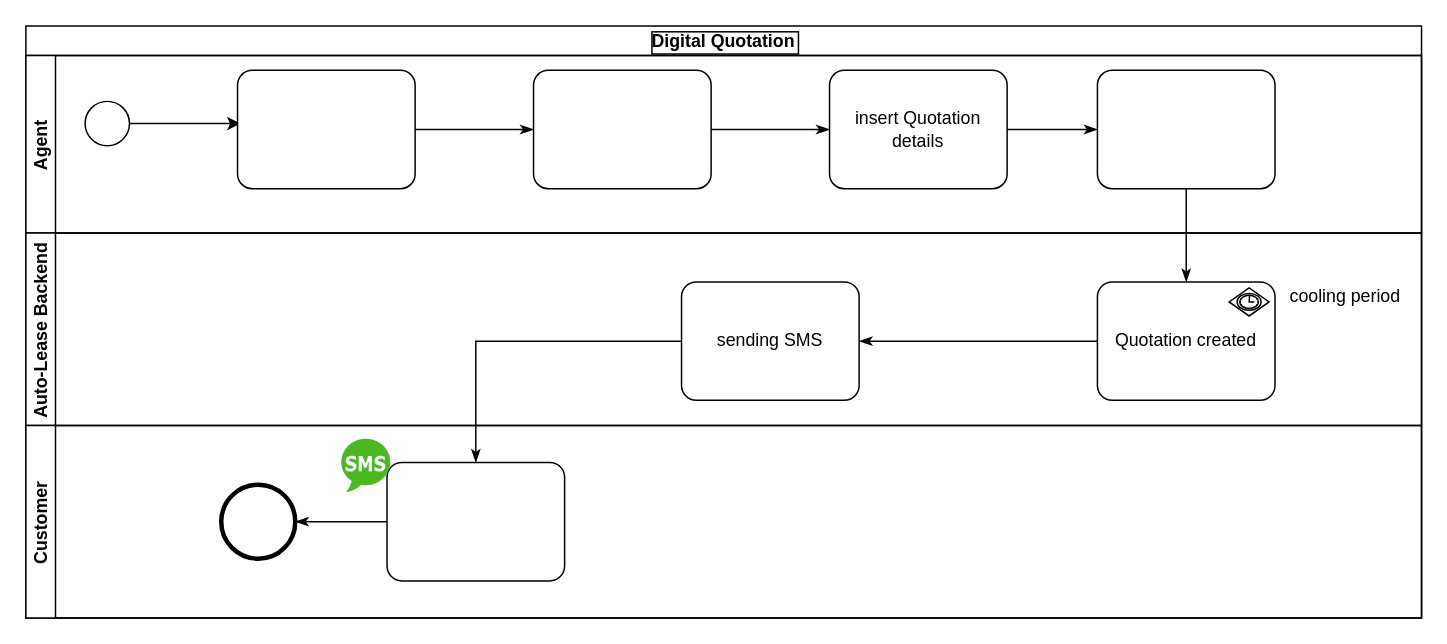
Some shapes in this 1447 by 644 pixel diagram are drawn without their labels. Here are the shapes that lost their labels. From the top down, the centre of each, then its label:
At point 325,129: "insert Customer Information".
At point 621,129: "insert Asset details".
At point 1185,129: "submit Quotation".
At point 475,521: "recieve SMS".
